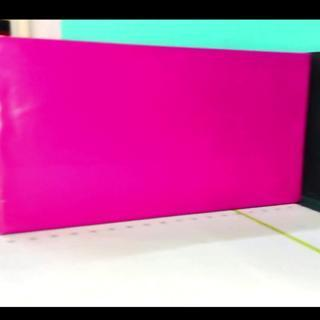xparking: (0, 36, 310, 233)
